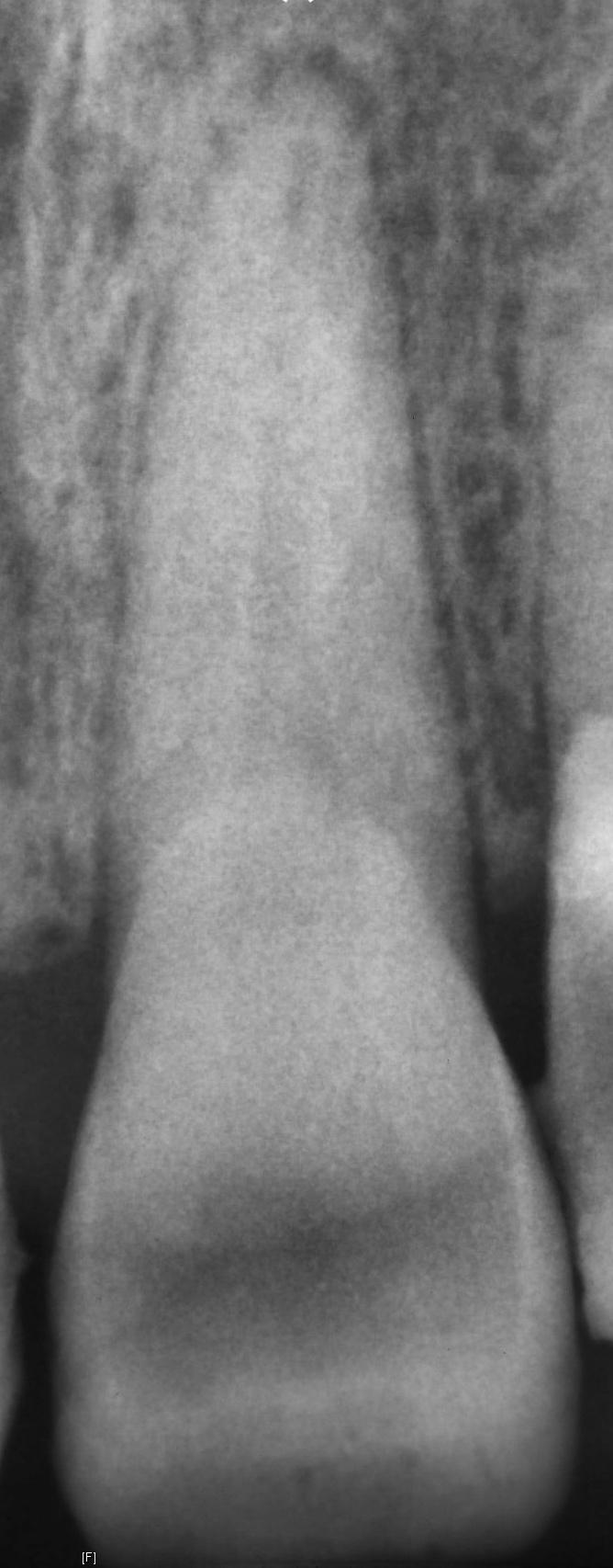tooth: (51, 46, 578, 1567)
